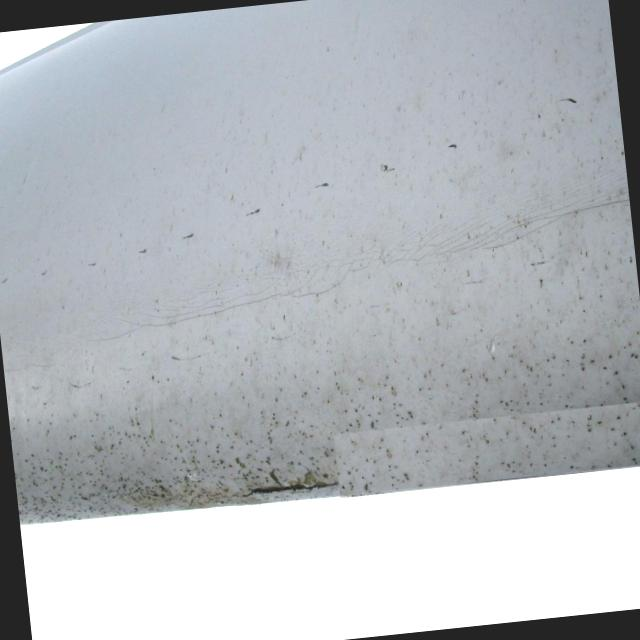crack: (249, 475, 334, 498)
